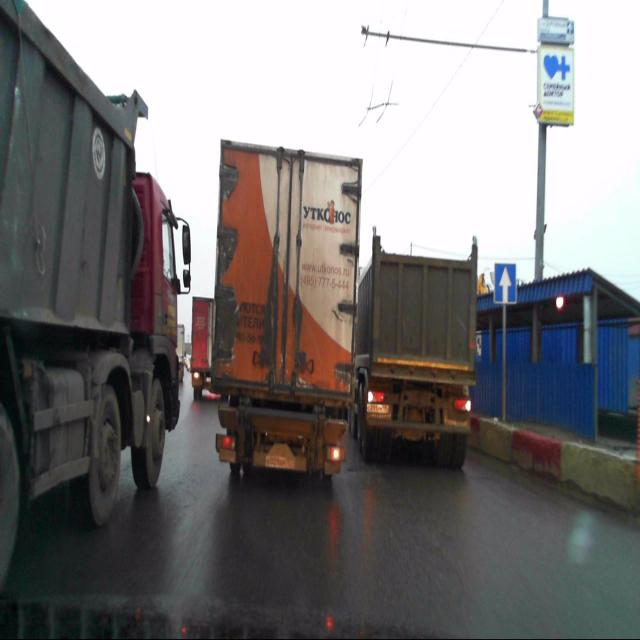road sign: (494, 262, 517, 304)
